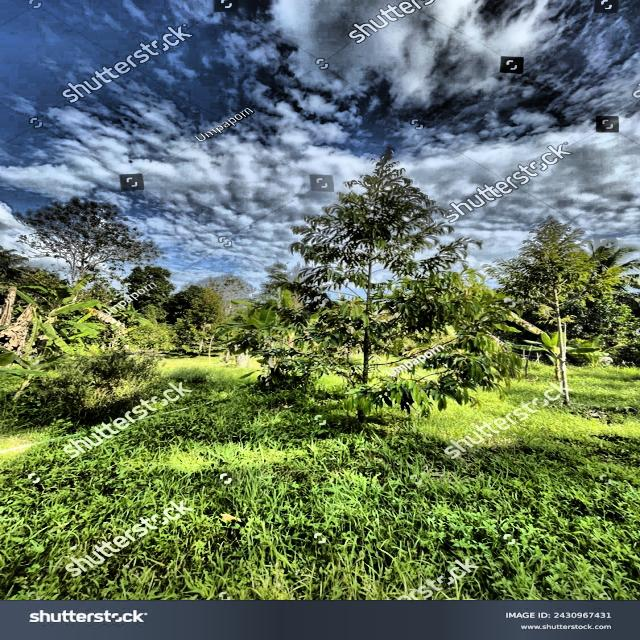arvore: (343, 287, 388, 446)
